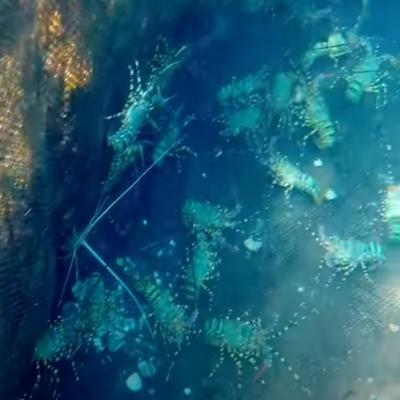lobster: (205, 316, 271, 373), (322, 237, 380, 288), (141, 282, 185, 349), (108, 94, 150, 152), (267, 152, 318, 196), (347, 52, 386, 108), (184, 243, 213, 308), (152, 119, 186, 170), (180, 202, 231, 234), (305, 89, 332, 148), (216, 70, 255, 107), (84, 277, 109, 333), (383, 180, 398, 248)
